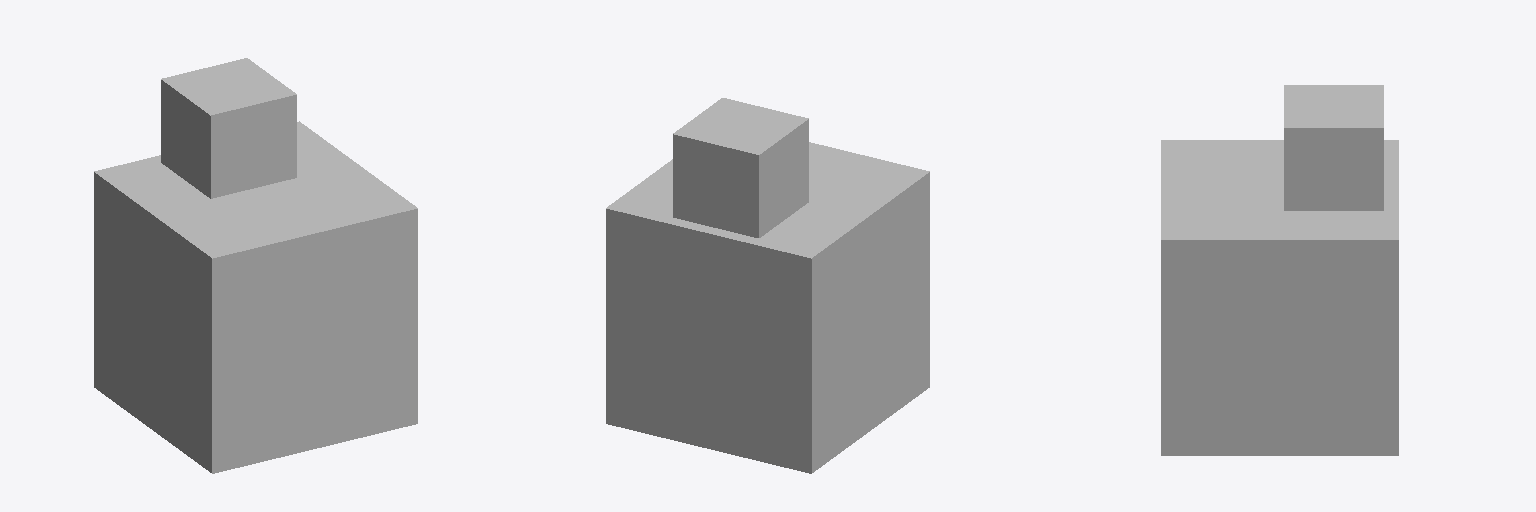
File: bob.obj
3 views of the same model, side by side, from view 1: azimuth 30°, elevation 25°; view 2: azimuth 150°, elevation 25°; view 3: azimuth 270°, elevation 25° (orthographic).
Visible parts, largest first — view 1: Cube, Cube.001; view 2: Cube, Cube.001; view 3: Cube, Cube.001.
Boxes of the visible parts, x1,y1,x2,y2 form: Cube: [94, 121, 417, 473]; Cube.001: [161, 58, 296, 198]; Cube: [606, 142, 929, 473]; Cube.001: [673, 98, 808, 237]; Cube: [1161, 140, 1398, 455]; Cube.001: [1284, 85, 1383, 210].
Bounding box in the file's own units: 2 × 2.77 × 2.